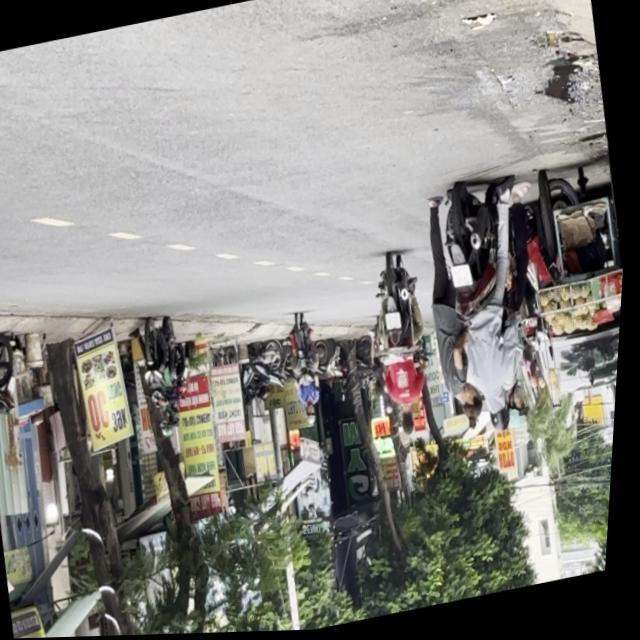helmet: (506, 389, 537, 436), (488, 398, 516, 440)
licenseplate: (420, 175, 554, 454)
nohelmet: (453, 266, 476, 291)
